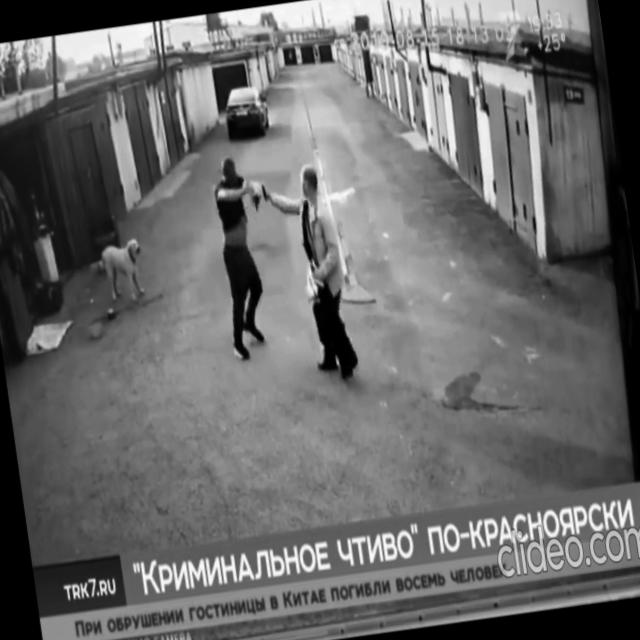gun: (300, 228, 362, 378)
person: (208, 152, 286, 365)
person with a gun: (263, 160, 361, 390)
